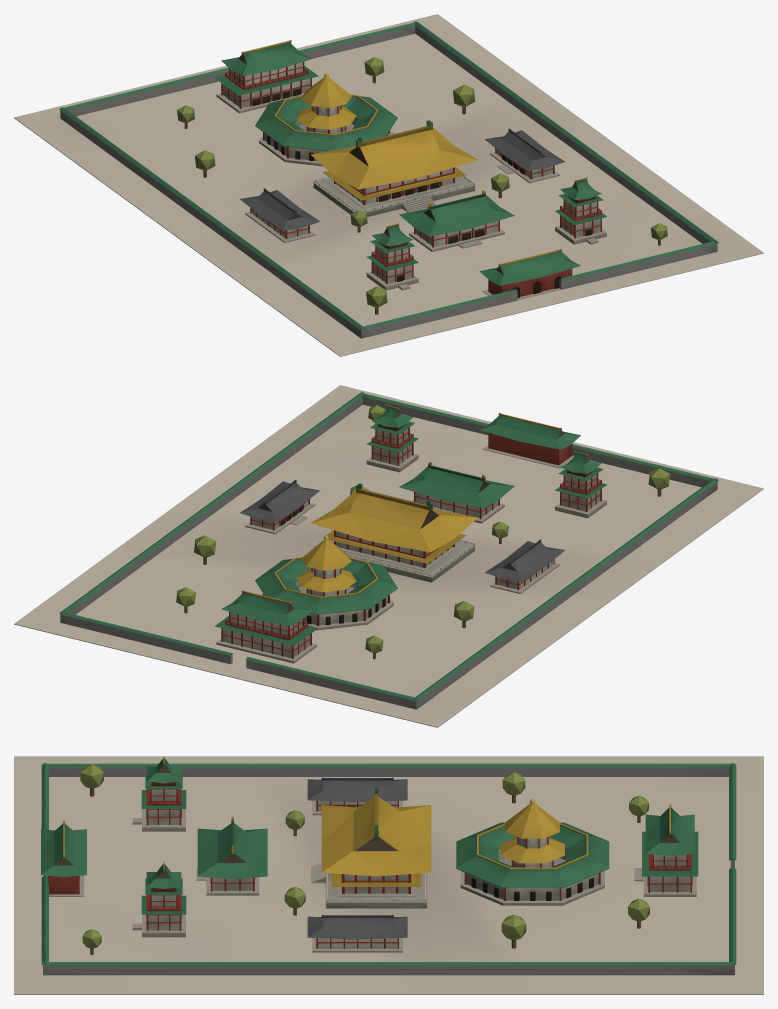
The model's file is xiangguo-temple-qing.glb.
The picture shows the model from 3 angles, top to bottom: view 1: azimuth 30°, elevation 25°; view 2: azimuth 150°, elevation 25°; view 3: azimuth 270°, elevation 25°; orthographic projection. The views are drawn at different scales.
Visible parts, largest first — view 1: p0_terraces, p2_trees, p1_halls; view 2: p0_terraces, p2_trees, p1_halls; view 3: p0_terraces, p2_trees, p1_halls.
Part boxes in pixels (bbox=[...]): p0_terraces: bbox=[14, 14, 763, 356]; p2_trees: bbox=[177, 40, 667, 314]; p1_halls: bbox=[216, 61, 606, 299]; p0_terraces: bbox=[14, 385, 763, 727]; p2_trees: bbox=[176, 405, 669, 659]; p1_halls: bbox=[216, 427, 606, 663]; p0_terraces: bbox=[14, 756, 763, 994]; p2_trees: bbox=[41, 756, 698, 954]; p1_halls: bbox=[43, 789, 696, 952].
Bounding box in the file's own units: 180 × 27.13 × 240.
